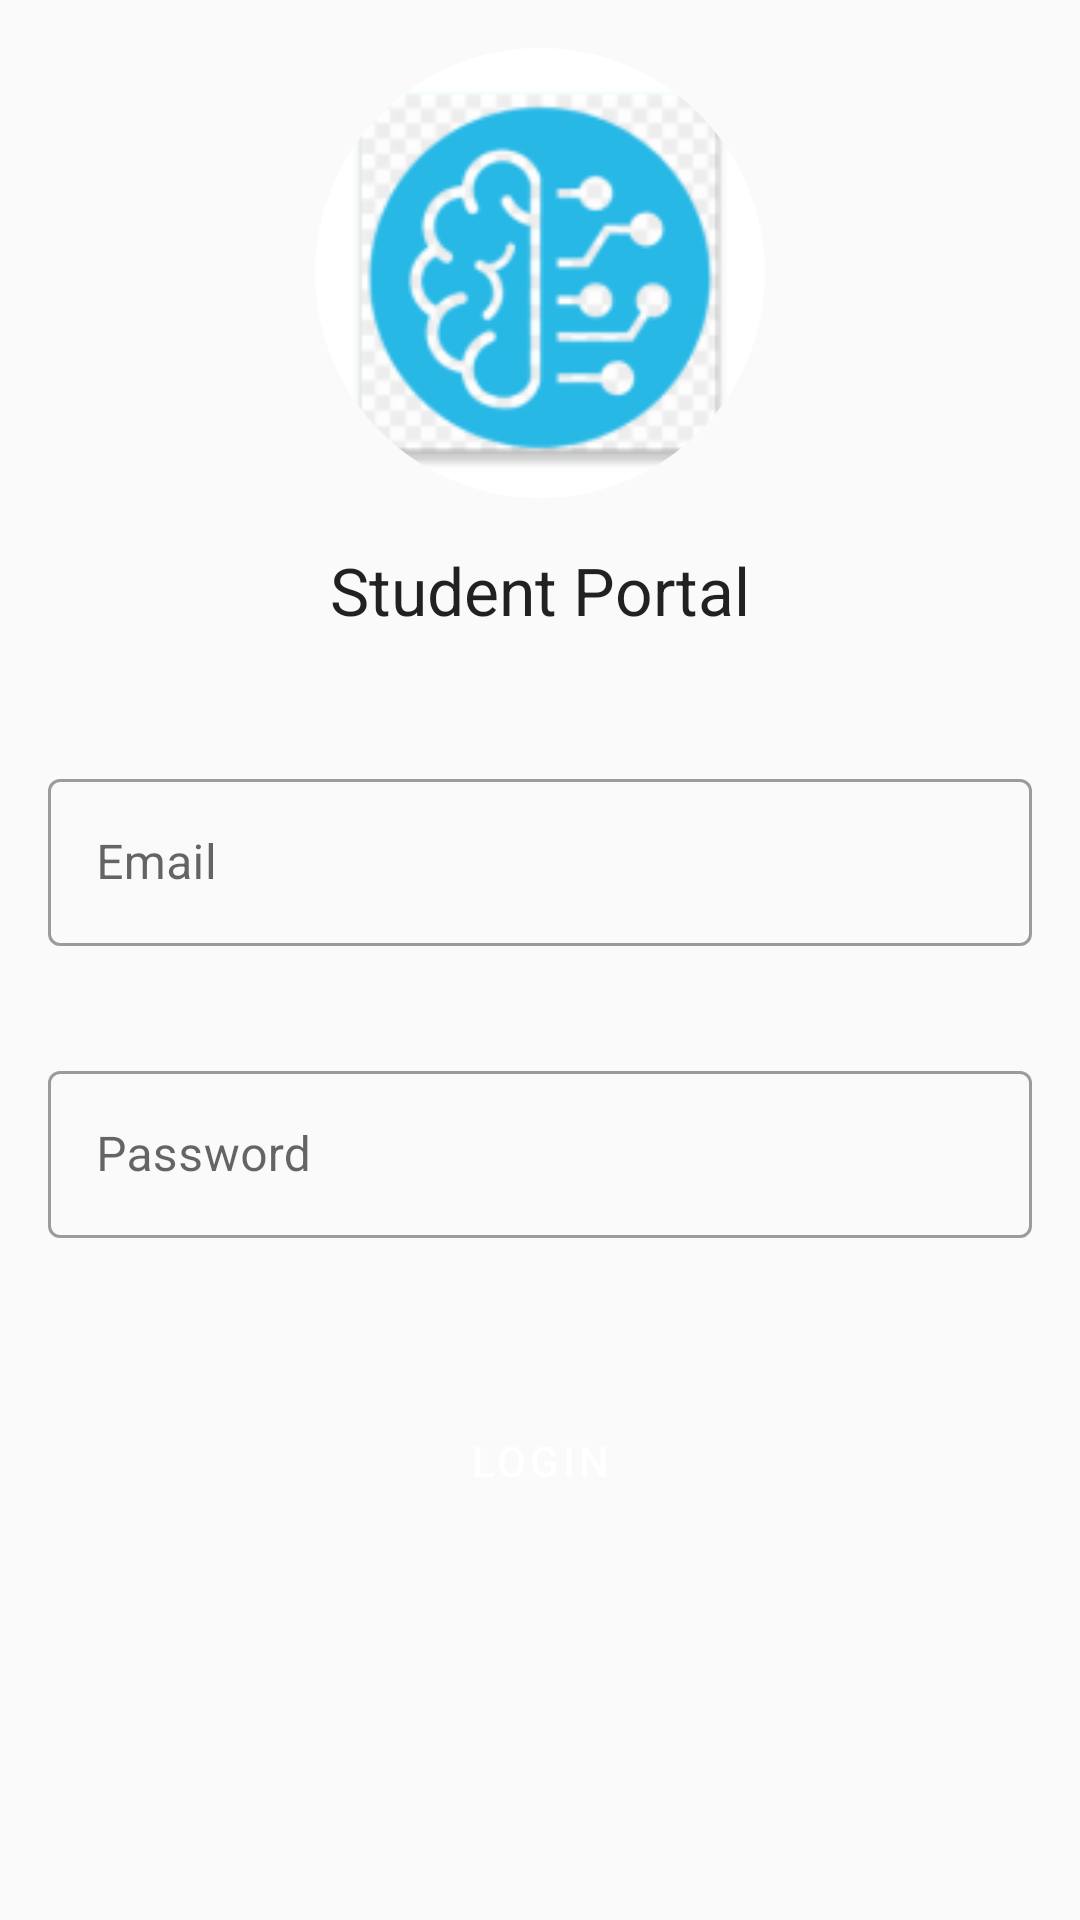

Icon click points for this 1080 x 1920 phone screenshot, format (x=x, y=y):
artif intell: (x=540, y=283)
